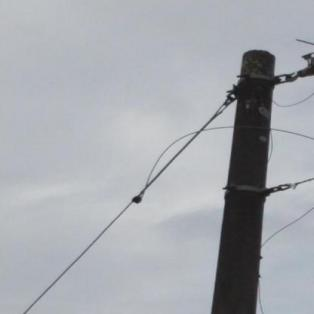Poste: (120, 47, 284, 314)
